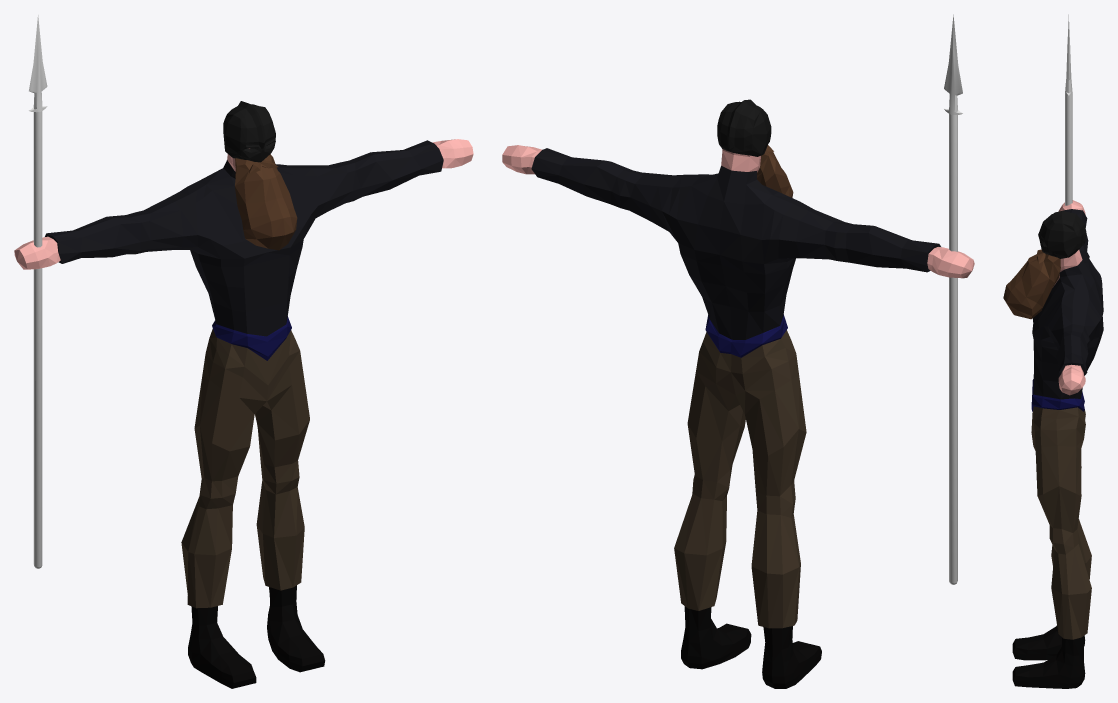
Rendered from SpearMan.FBX.
3 views of the same model, side by side, from view 1: azimuth 30°, elevation 25°; view 2: azimuth 150°, elevation 25°; view 3: azimuth 270°, elevation 25° (orthographic). The views are drawn at different scales.
Visible parts, largest first — view 1: body, Axe_Beard, Mesh_Spear; view 2: body, Mesh_Spear, Axe_Beard; view 3: body, Axe_Beard, Mesh_Spear.
Part boxes in pixels (<box>): body: <box>14,139,473,688</box>; Axe_Beard: <box>223,101,297,250</box>; Mesh_Spear: <box>29,15,47,568</box>; body: <box>502,145,974,688</box>; Mesh_Spear: <box>944,14,962,584</box>; Axe_Beard: <box>717,99,793,197</box>; body: <box>1012,200,1103,688</box>; Axe_Beard: <box>1003,211,1086,319</box>; Mesh_Spear: <box>1065,14,1072,205</box>.
Size of the model in its own units: 69.01 by 100 by 16.01.
